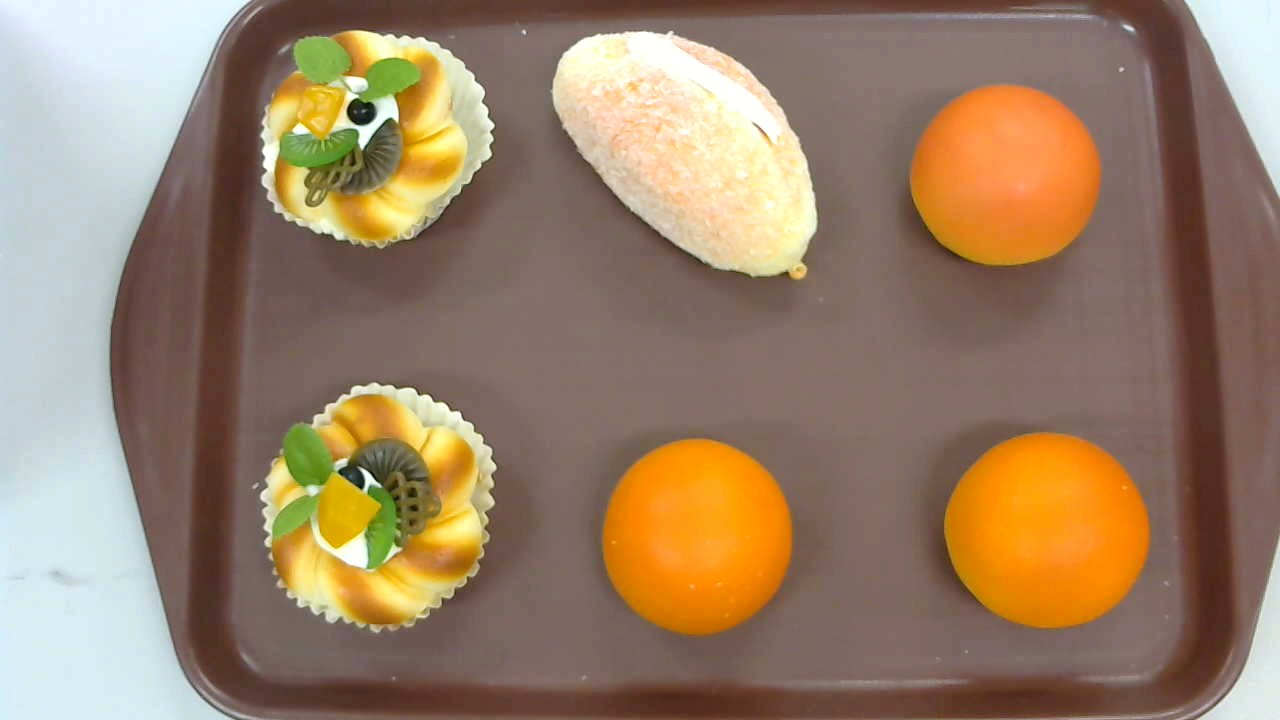bun: (941, 430, 1150, 629), (599, 437, 790, 635), (909, 83, 1101, 266)
coconut: (550, 30, 818, 279)
fruit tart: (259, 381, 497, 636), (260, 29, 497, 250)
